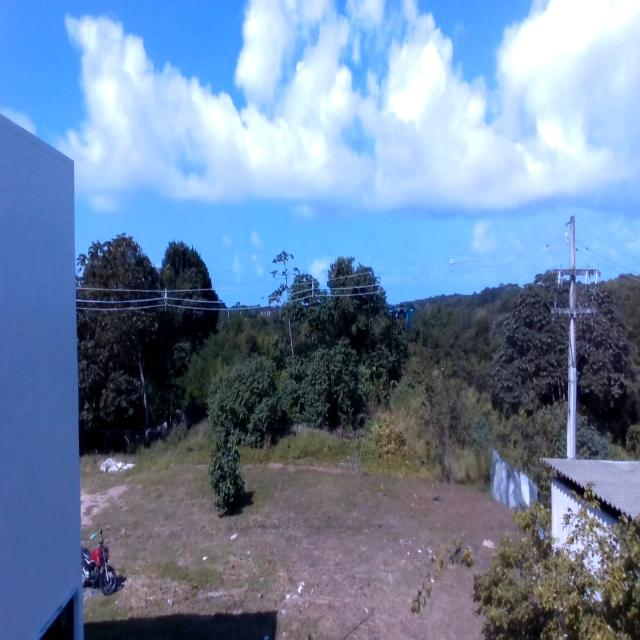-uav-: (387, 295, 418, 345)
